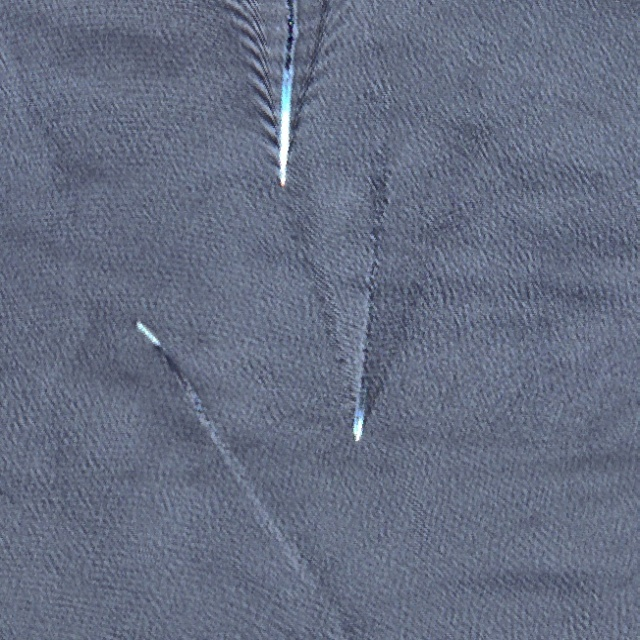wake: (227, 11, 343, 189)
